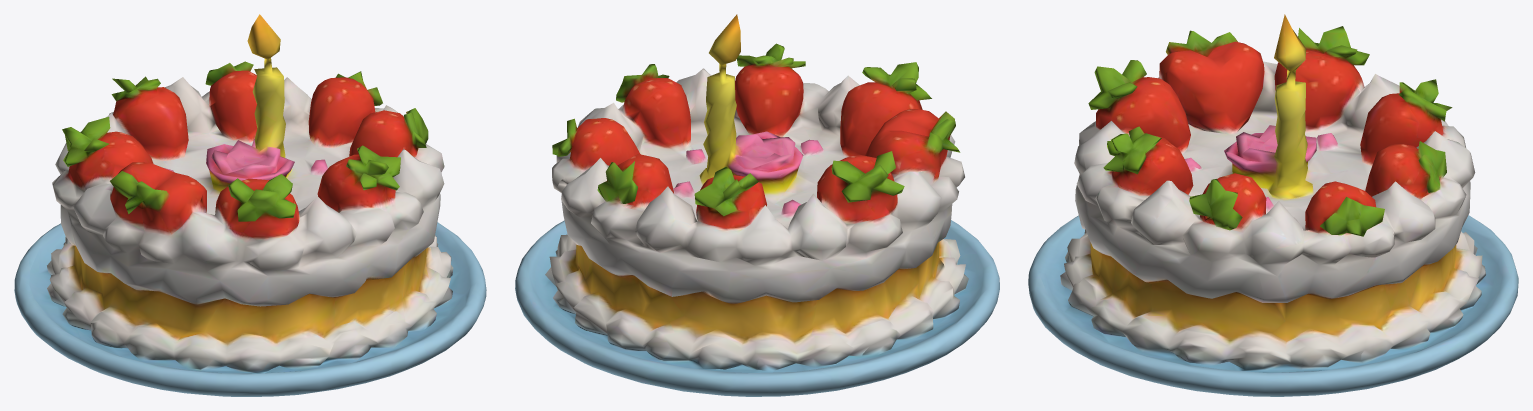
The model's file is cake.glb.
The picture shows the model from 3 angles, left to right: view 1: azimuth 30°, elevation 25°; view 2: azimuth 150°, elevation 25°; view 3: azimuth 270°, elevation 25°; orthographic projection. The views are drawn at different scales.
Visible parts, largest first — view 1: tripo_node_44618a3c-fae0-4ff1-9cd2-f37e826c2a21; view 2: tripo_node_44618a3c-fae0-4ff1-9cd2-f37e826c2a21; view 3: tripo_node_44618a3c-fae0-4ff1-9cd2-f37e826c2a21.
Boxes of the visible parts, x1,y1,x2,y2 form: tripo_node_44618a3c-fae0-4ff1-9cd2-f37e826c2a21: [14, 14, 486, 396]; tripo_node_44618a3c-fae0-4ff1-9cd2-f37e826c2a21: [515, 14, 999, 396]; tripo_node_44618a3c-fae0-4ff1-9cd2-f37e826c2a21: [1028, 14, 1518, 396].
Bounding box in the file's own units: 0.2948 × 0.2 × 0.2942.
1 material, 1 textured.
